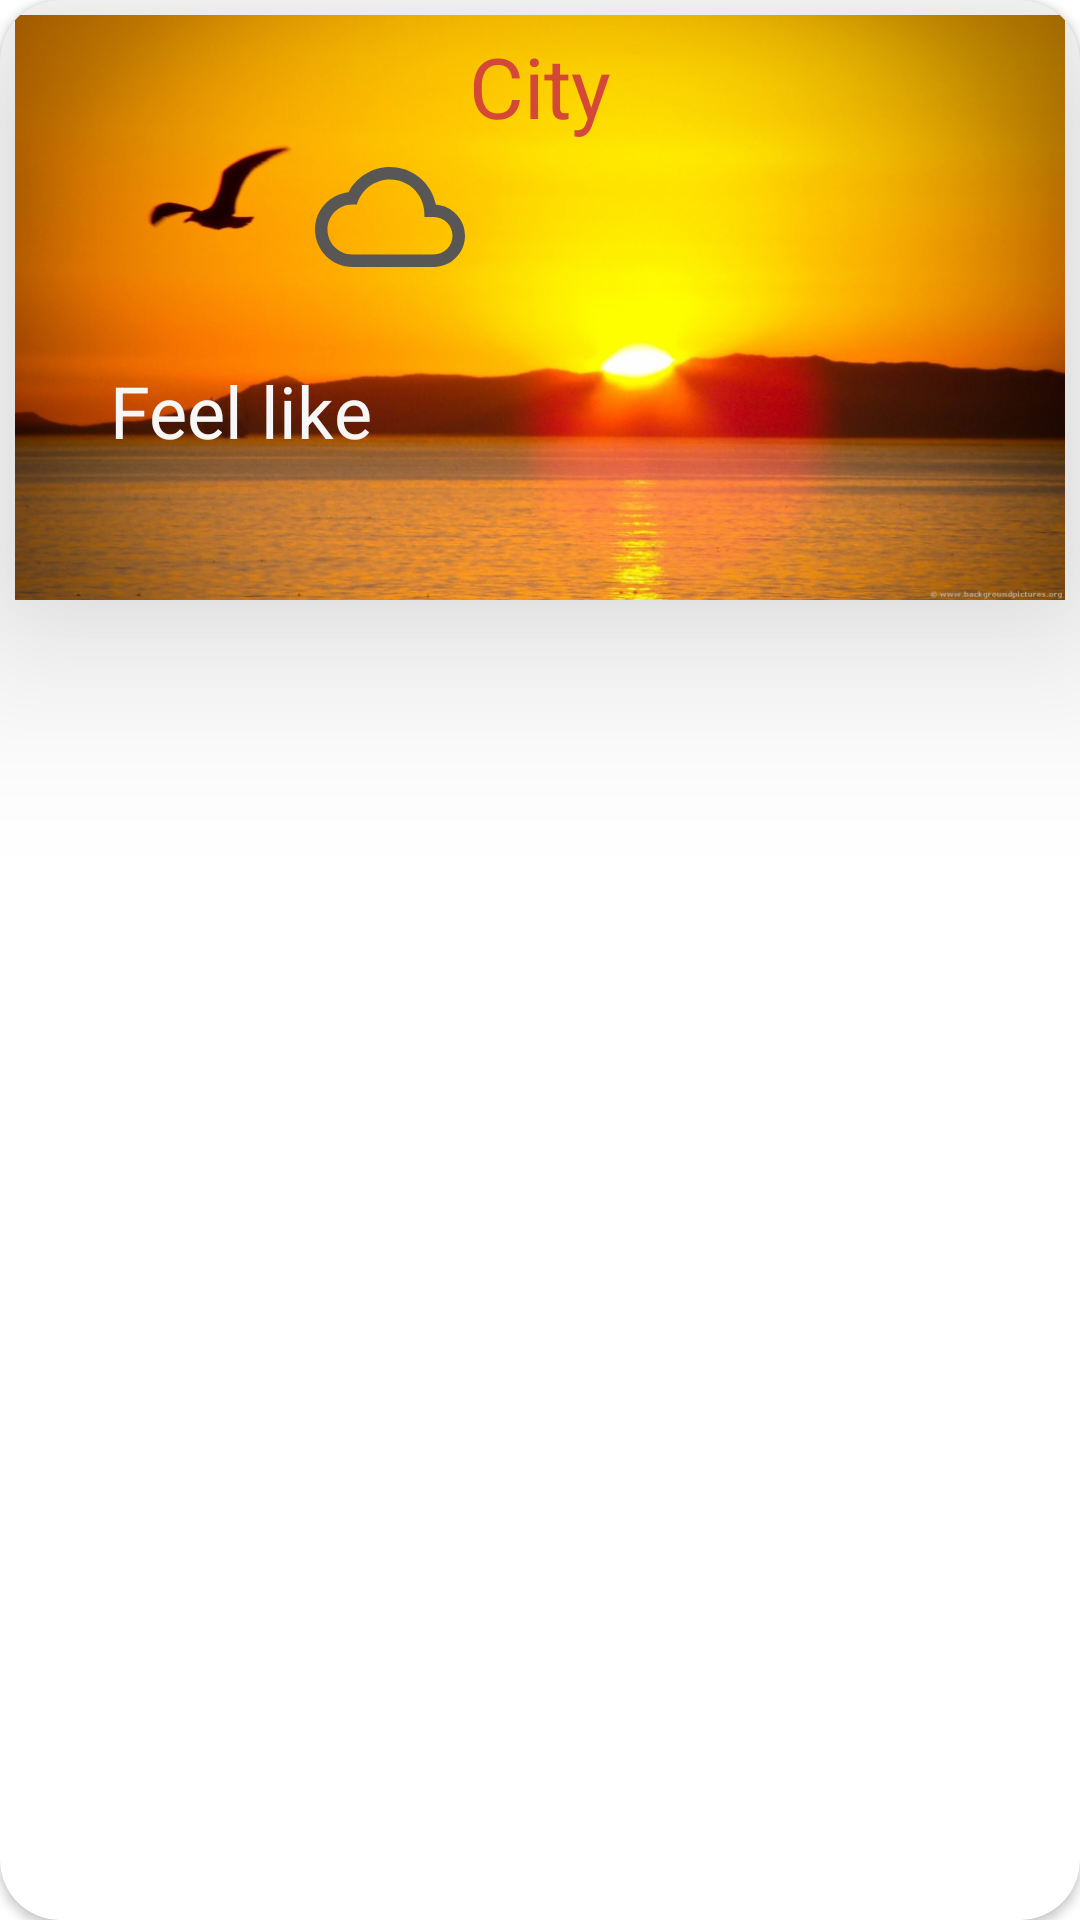

Icons on this 1080x1920 Android screen, each with its box as box=[x1, y1, x2, y2]:
cloud: box=[315, 142, 465, 292]
